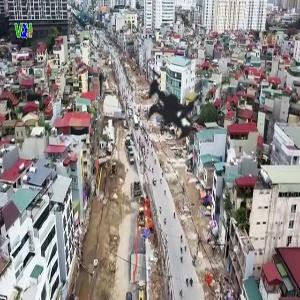drone: (70, 7, 286, 223)
